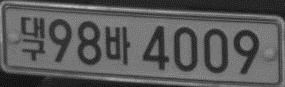0: (203, 27, 229, 73), (173, 26, 198, 71)
4: (142, 24, 169, 70)
8: (76, 19, 102, 65)
9: (232, 28, 259, 74), (48, 18, 72, 62)
대구_V: (19, 16, 45, 60)
바: (104, 25, 131, 65)
